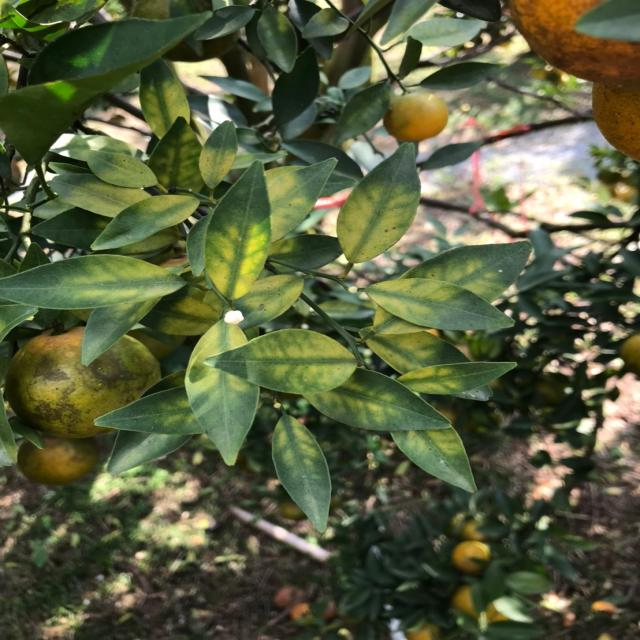greening: (334, 149, 432, 259), (204, 326, 360, 394), (195, 166, 278, 291), (2, 256, 176, 309), (380, 273, 501, 331), (100, 194, 196, 240)
